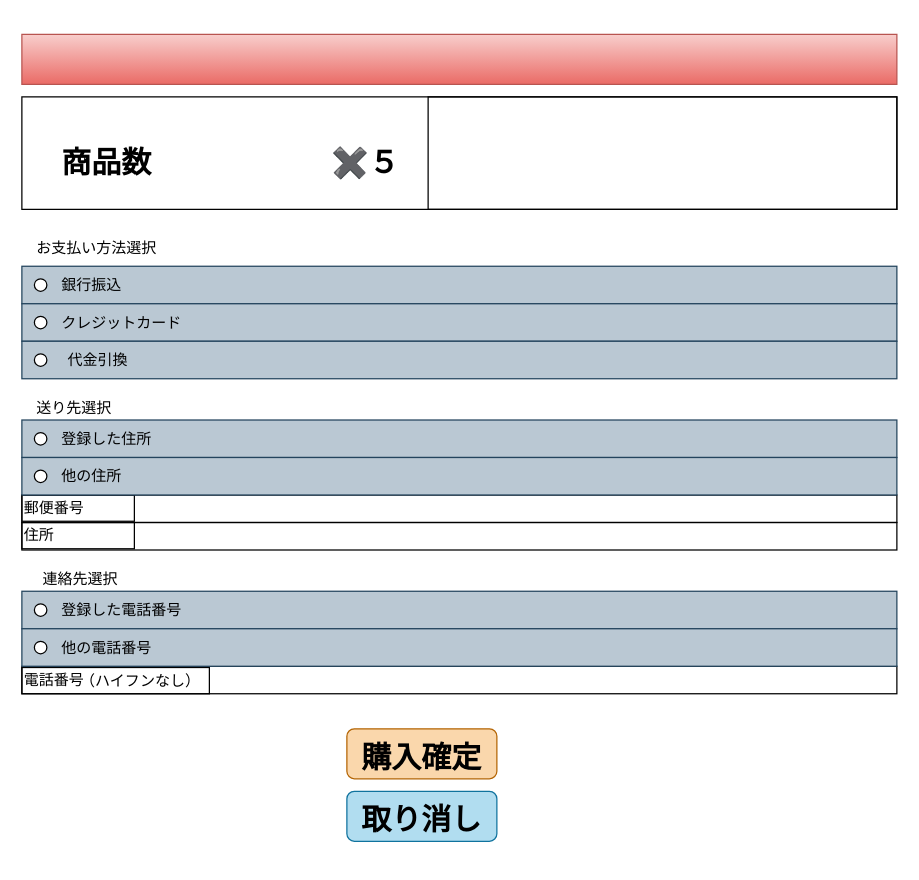
The diagram is 919 pixels wide and 880 high, and some of its shapes have lost their labels. Each missing label, with the centre of its shape:
購入手続き: the point at 459,58
金額 合計￥7,009(税込): the point at 662,152
